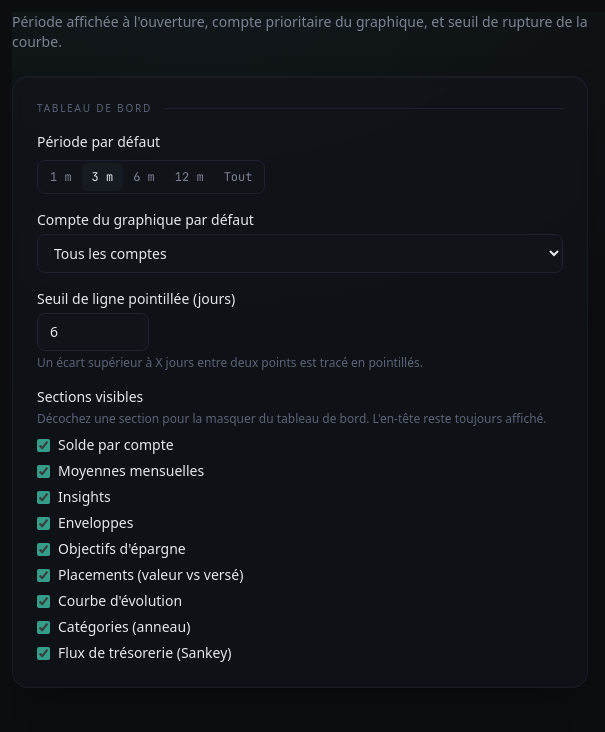
Scenario: Settings — Dashboard sub-page › does not leave the "Enregistré" chip visible when the PATCH fails
Click the button "6 m": (144, 177) [123,163,165,191]
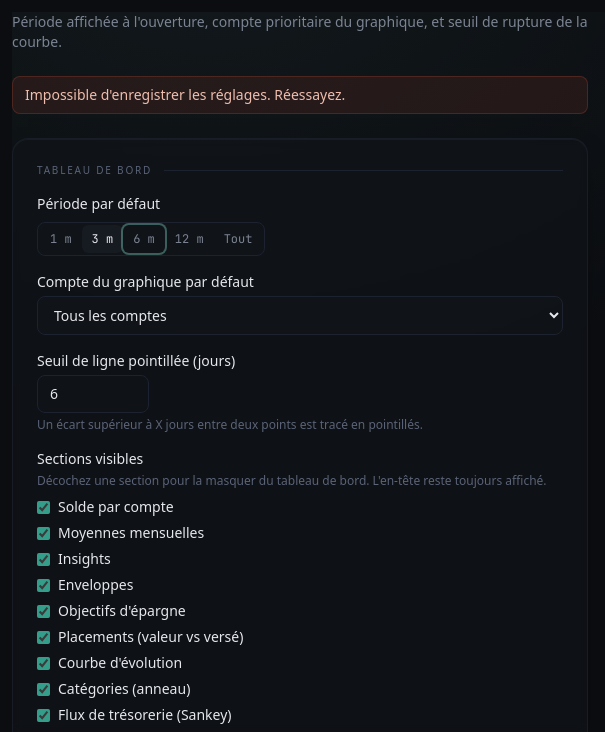
Check: the text "Impossible d'enregistrer les réglages. Réessayez." is shown, box [12,76,588,114]
